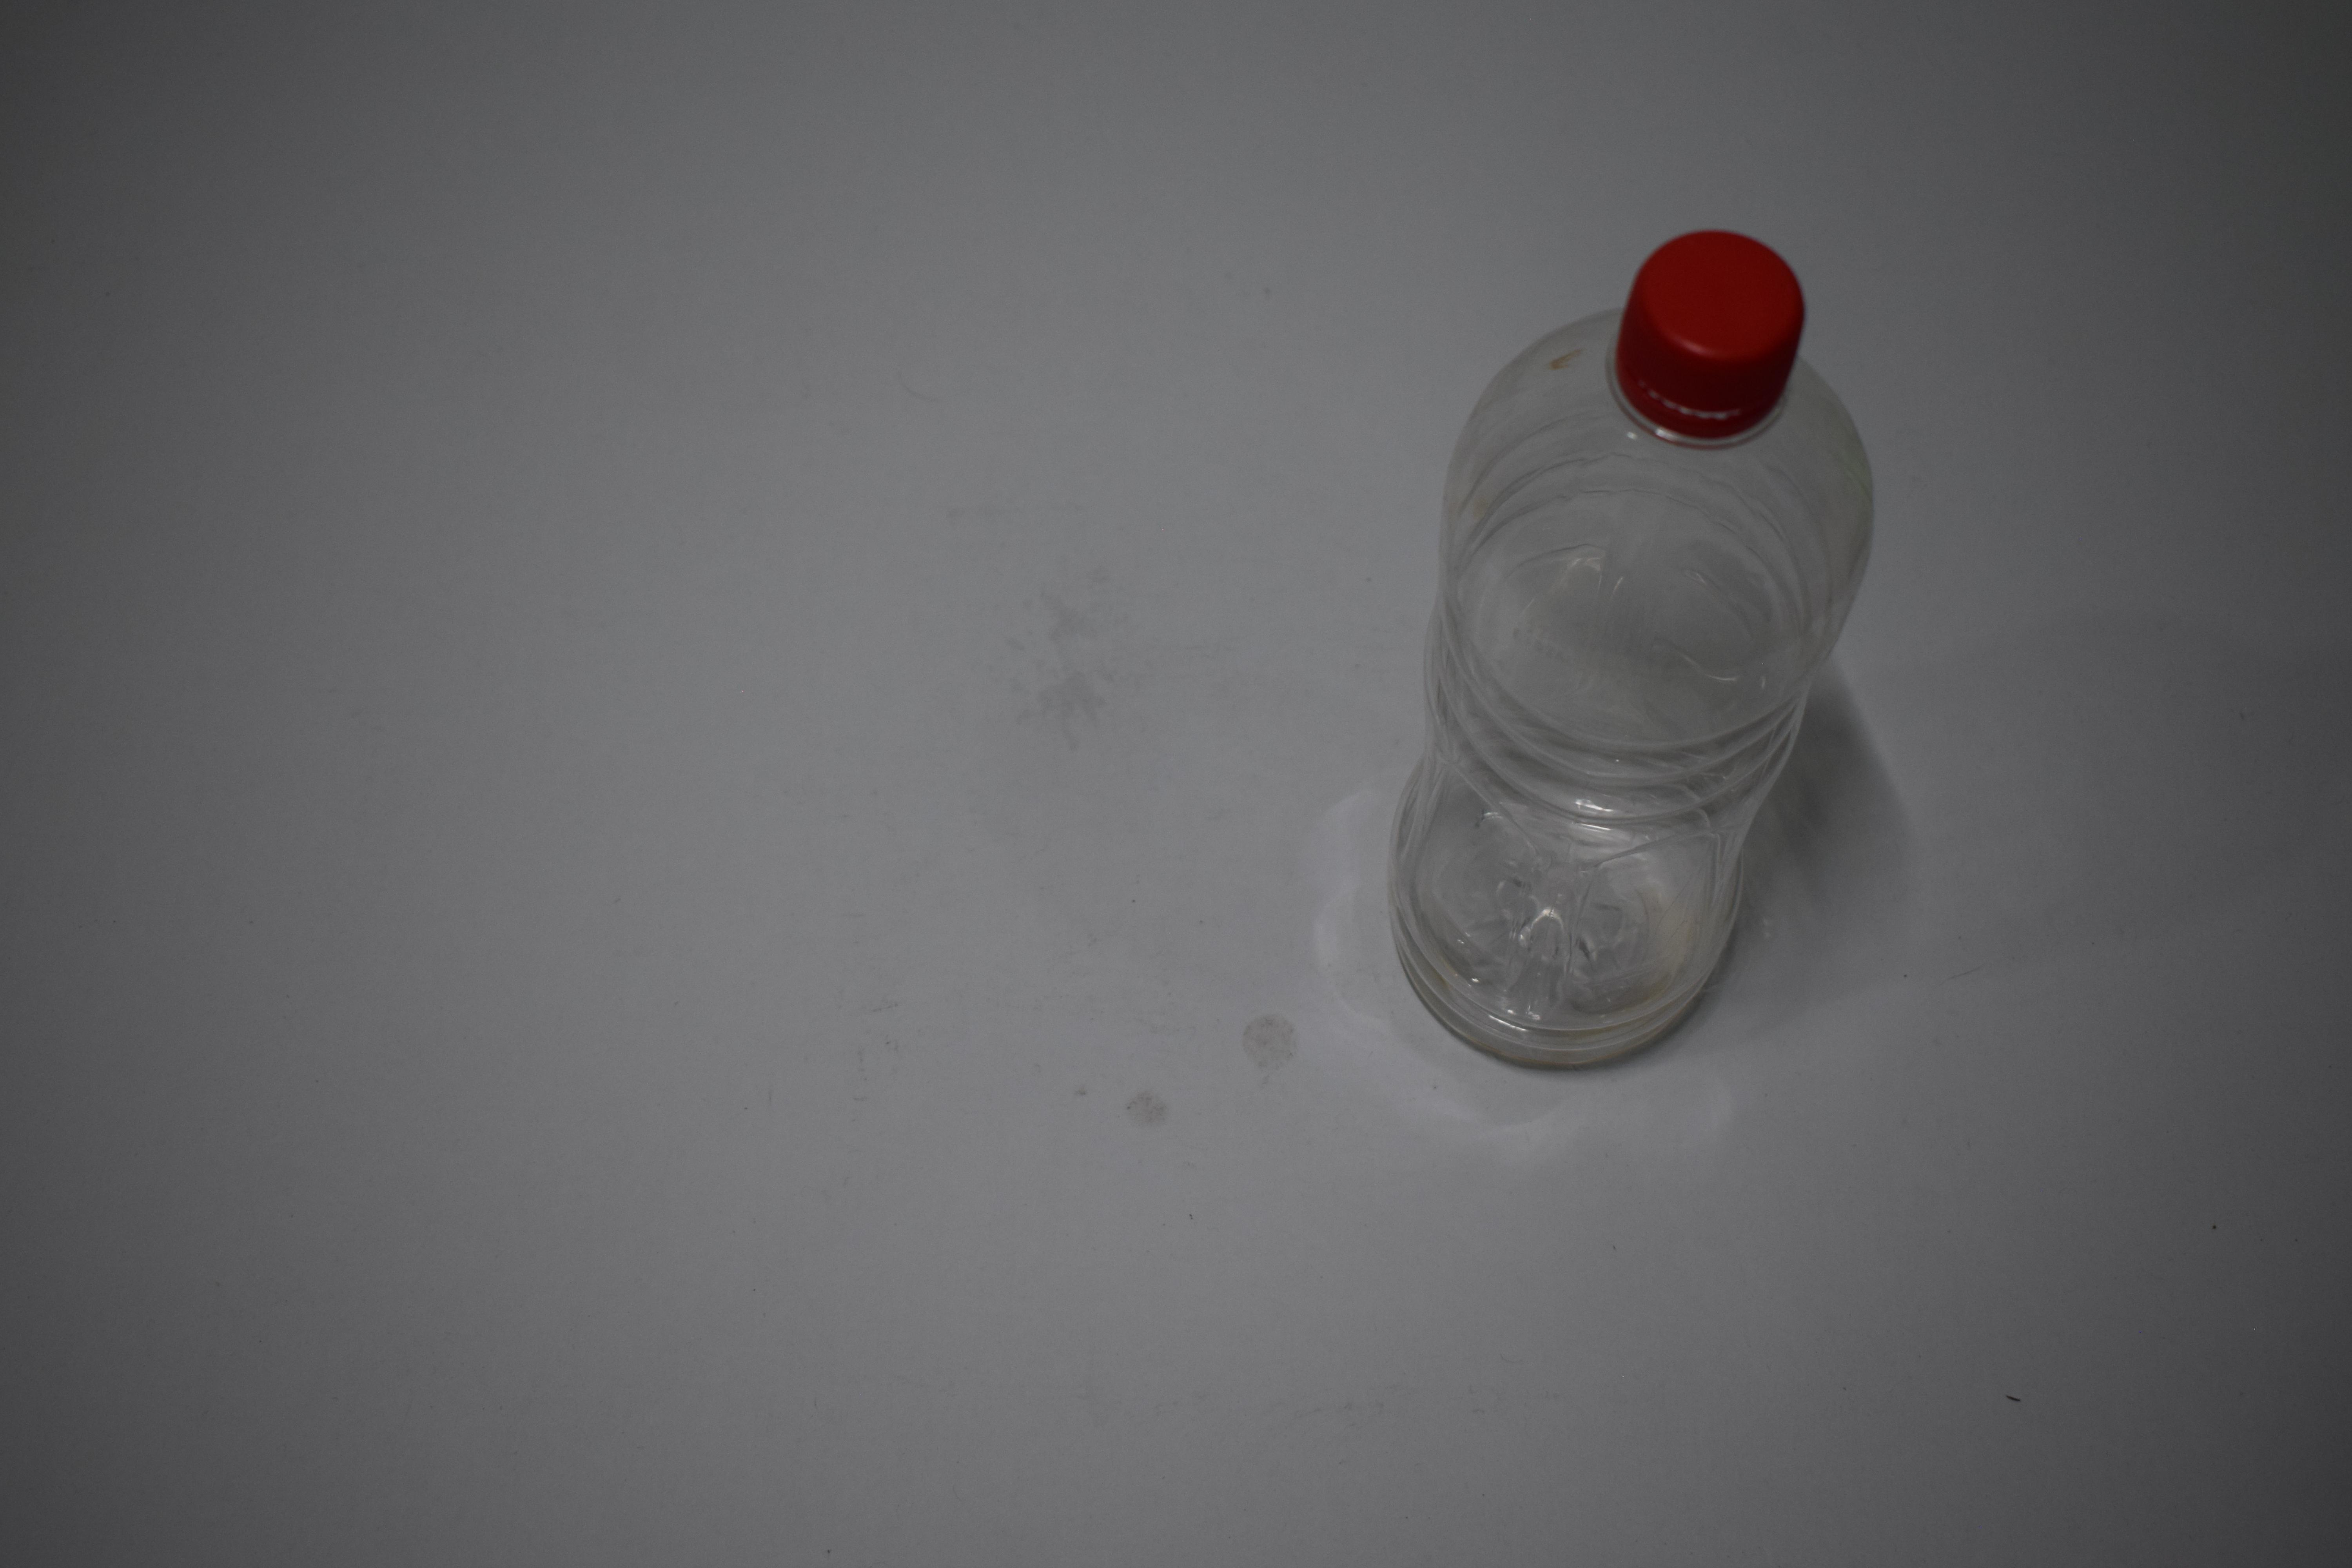bottle: (1386, 612, 1879, 686)
